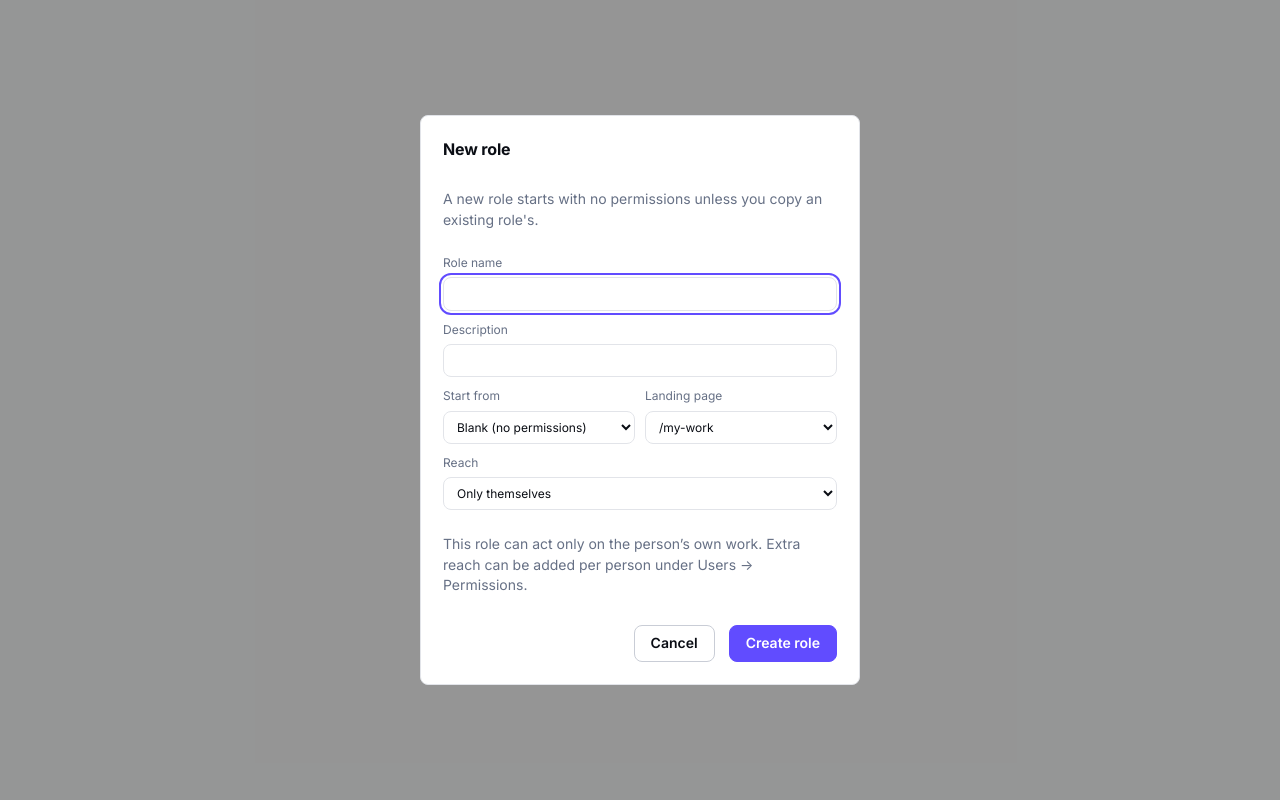
Scenario: NewRoleDialog — reach (ADR-0041) › explains the selected reach in plain words, and updates as it changes
Check: the text with test id "new-role-scope-hint" shows "only on the person’s own work", box x1=443 y1=535 x2=800 y2=593
Step 1. Select "The whole organisation" in the dropdown with test id "new-role-scope" → (640, 494), box x1=443 y1=477 x2=837 y2=510
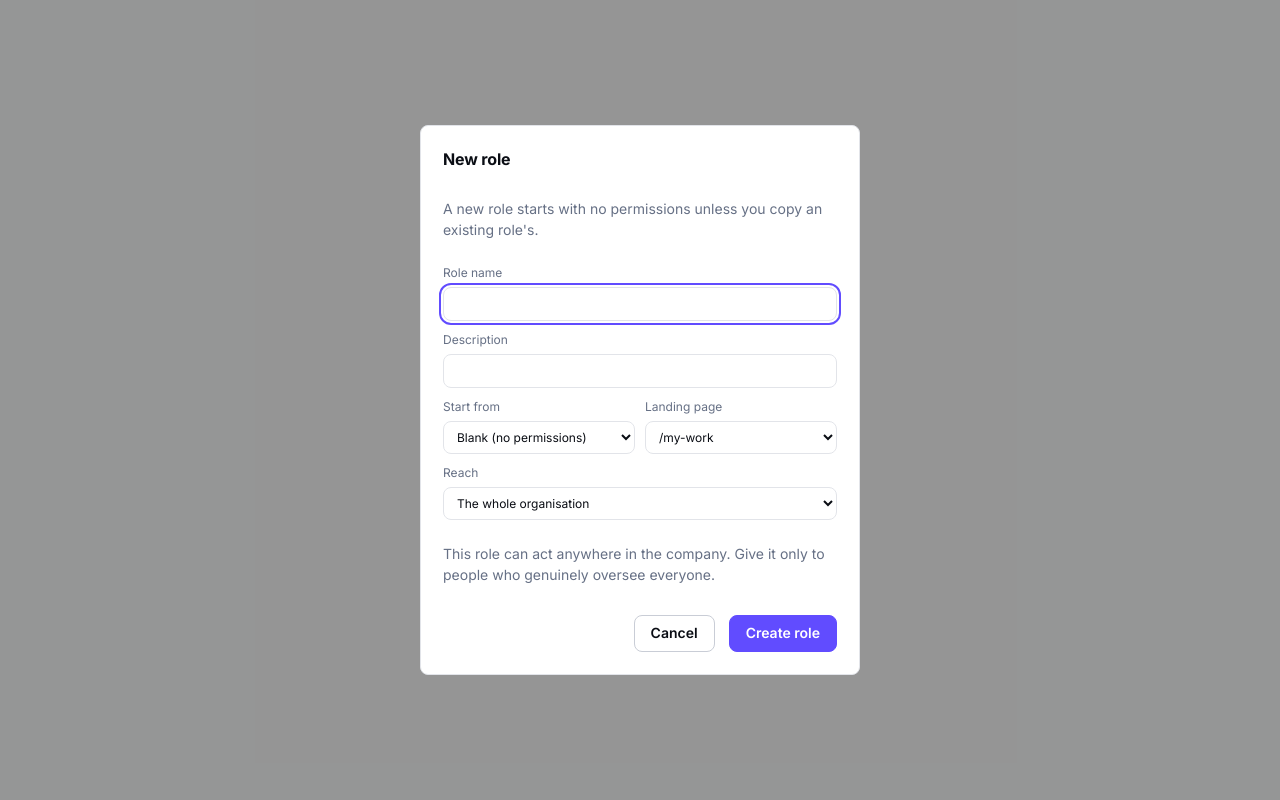
Check: the text with test id "new-role-scope-hint" shows "anywhere in the company", box x1=443 y1=545 x2=825 y2=583
